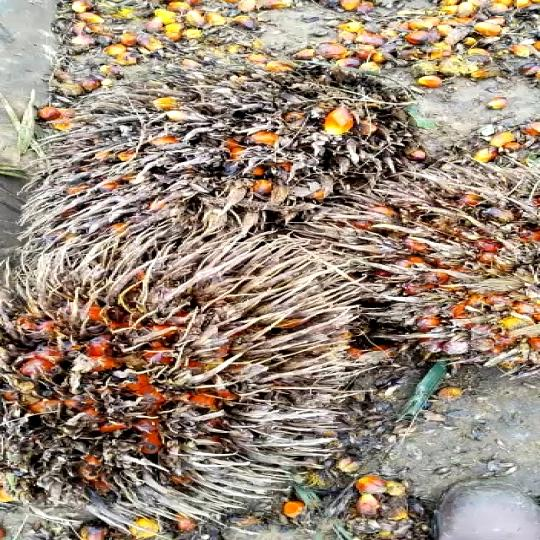terlalu masak: (0, 231, 370, 516), (34, 58, 410, 246)
